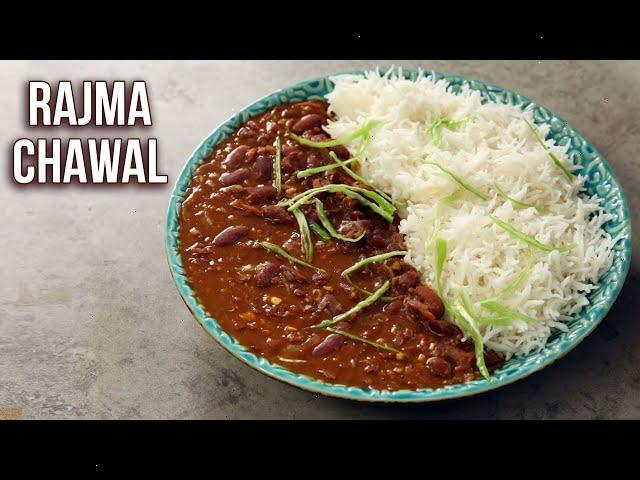rajma: (198, 90, 439, 423)
rice: (359, 65, 620, 345)
